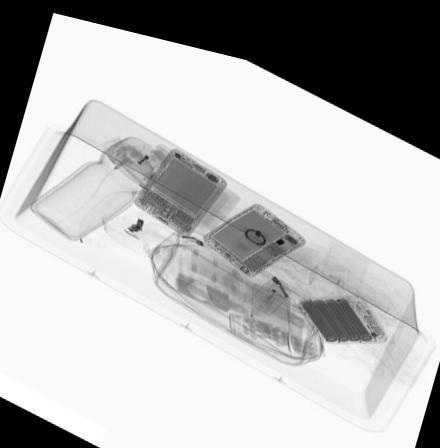Powerbank: (295, 281, 391, 327)
